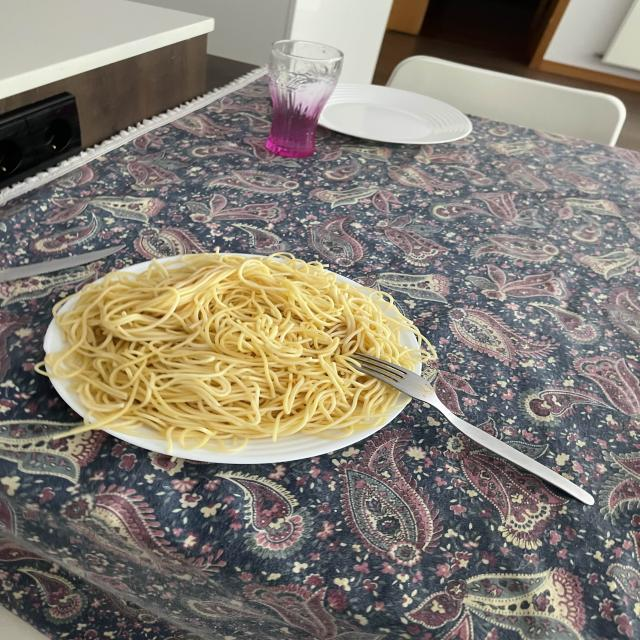fork: (350, 353, 594, 505)
plate: (36, 253, 441, 464)
spaghetti: (44, 253, 430, 452)
